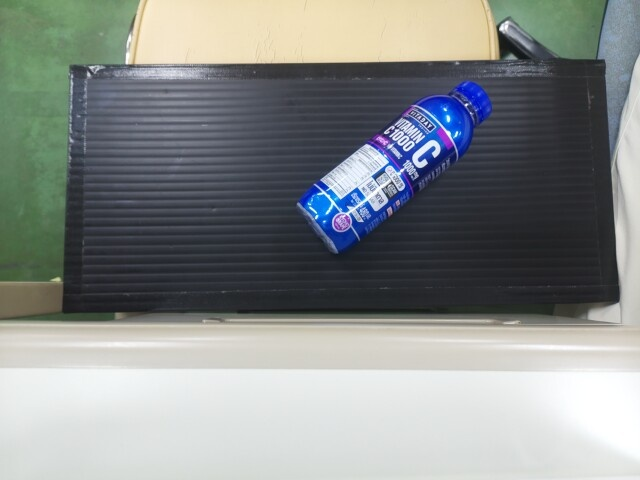plastic_bottle: (298, 80, 487, 253), (294, 113, 448, 255)
